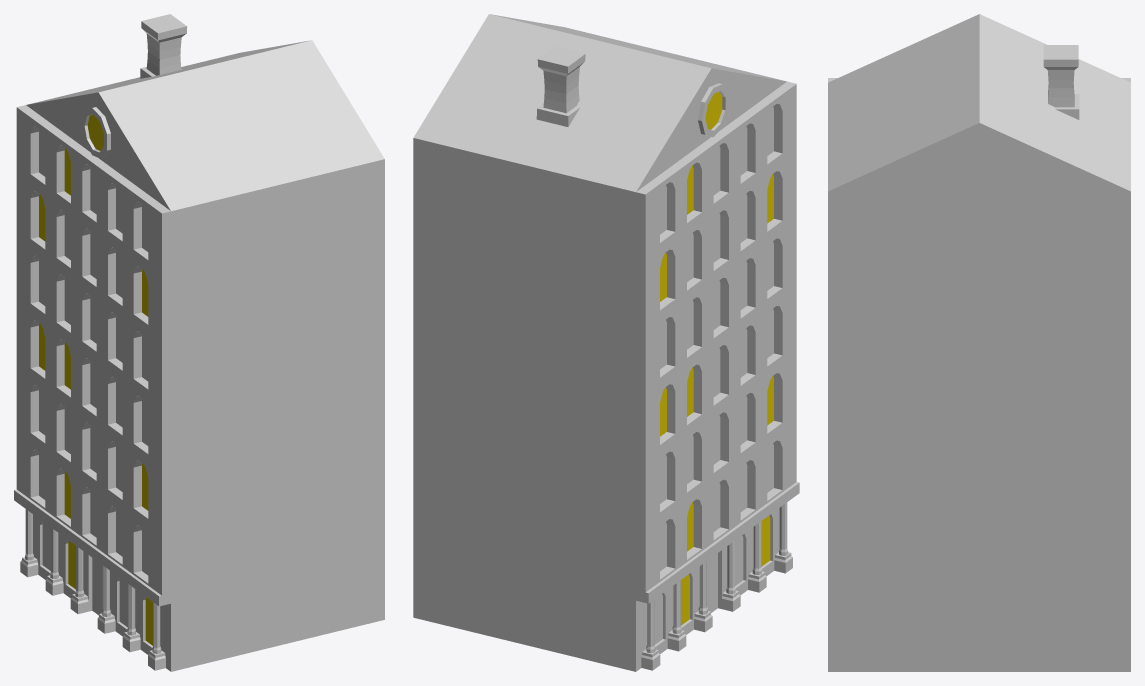
File: WelcomeToMyMostSplendidCondominium.fbx
3 views of the same model, side by side, from view 1: azimuth 30°, elevation 25°; view 2: azimuth 150°, elevation 25°; view 3: azimuth 270°, elevation 25° (orthographic). The views are drawn at different scales.
Parts seen in each view (by area): view 1: Cube.002; view 2: Cube.002; view 3: Cube.002.
Boxes of the visible parts, x1,y1,x2,y2 form: Cube.002: [14, 14, 384, 671]; Cube.002: [413, 14, 799, 671]; Cube.002: [828, 14, 1130, 671].
Size of the model in its own units: 1795 by 4109 by 2000.
